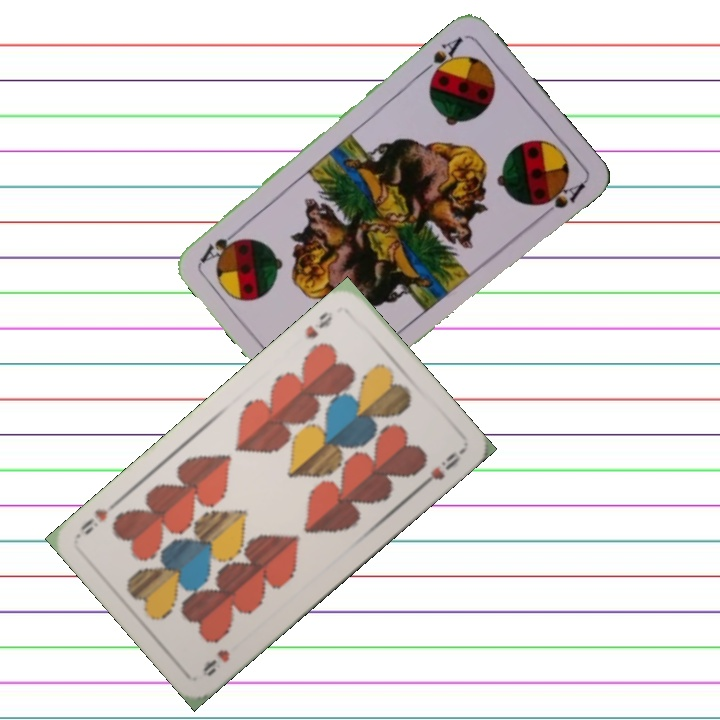H9: (301, 307, 336, 342), (198, 645, 232, 679)
SA: (418, 32, 466, 83)
